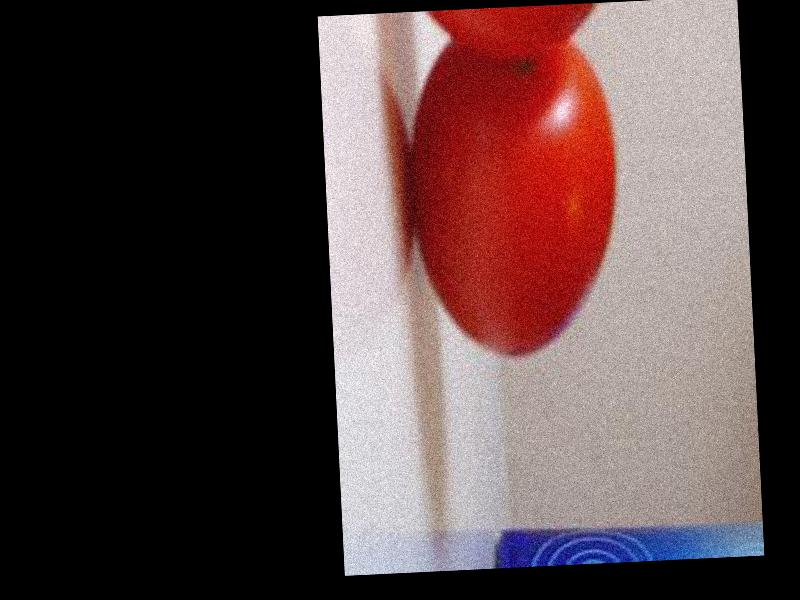Tomato: (402, 37, 623, 359)
